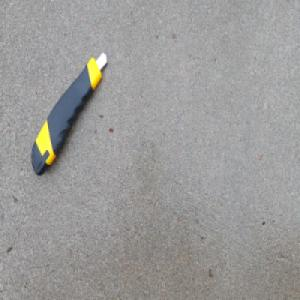Cutter: (30, 52, 108, 179)
